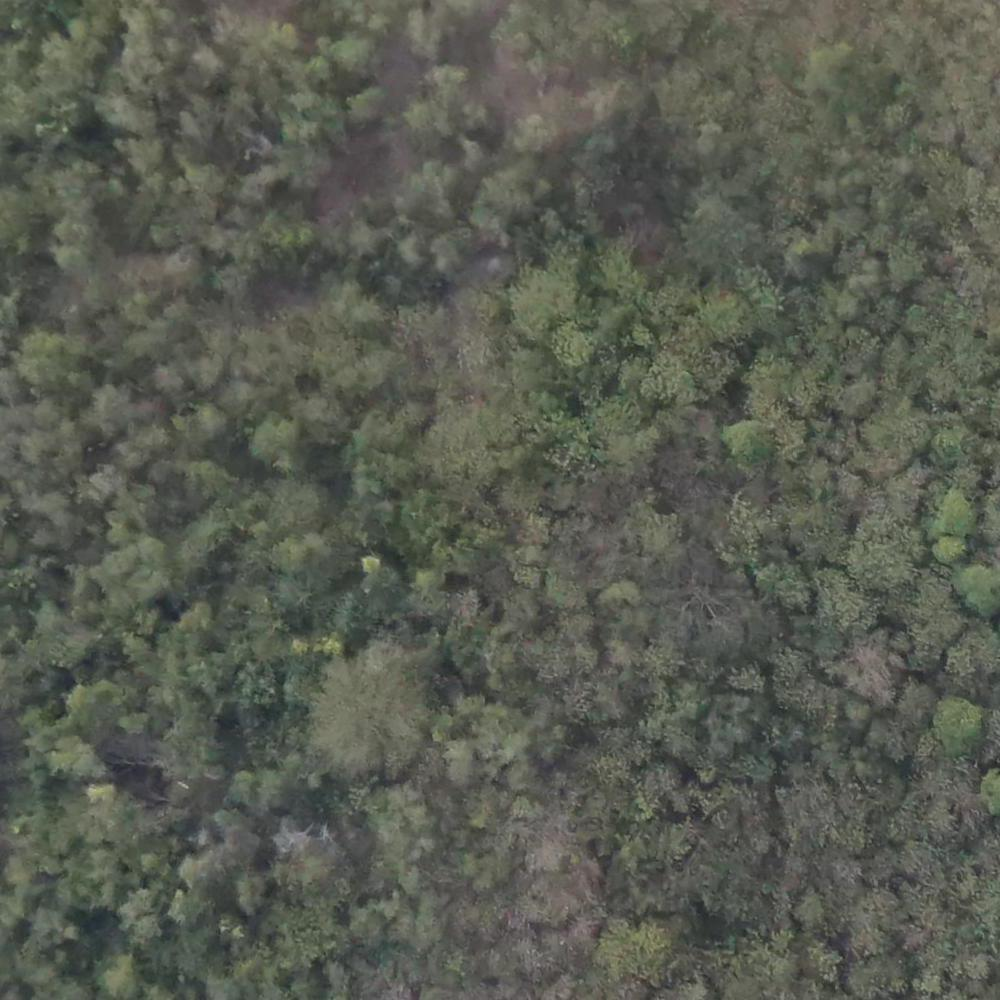tree: (316, 661, 416, 767), (433, 410, 509, 483), (843, 521, 916, 596), (601, 921, 671, 987), (681, 195, 756, 256), (237, 319, 307, 383), (321, 335, 399, 391), (508, 273, 577, 329), (847, 892, 905, 956), (98, 543, 164, 599), (846, 636, 904, 699), (804, 41, 867, 99), (325, 35, 401, 81), (601, 77, 661, 135), (487, 160, 546, 218), (398, 161, 463, 211), (264, 132, 325, 184), (760, 553, 810, 612), (934, 693, 981, 755), (419, 67, 471, 123), (124, 20, 175, 77), (723, 417, 775, 470), (704, 290, 753, 346), (446, 739, 491, 797), (20, 332, 65, 389), (952, 561, 1000, 613), (232, 767, 282, 816), (92, 378, 134, 435), (326, 286, 374, 335), (634, 507, 679, 559), (255, 417, 303, 465), (963, 627, 1000, 689), (120, 887, 164, 938), (266, 484, 316, 527), (292, 912, 341, 955), (502, 4, 548, 49), (829, 364, 871, 412), (357, 562, 401, 606), (936, 496, 980, 538), (886, 244, 924, 292), (211, 260, 254, 296), (543, 569, 579, 609), (232, 878, 268, 913), (518, 112, 551, 149)
